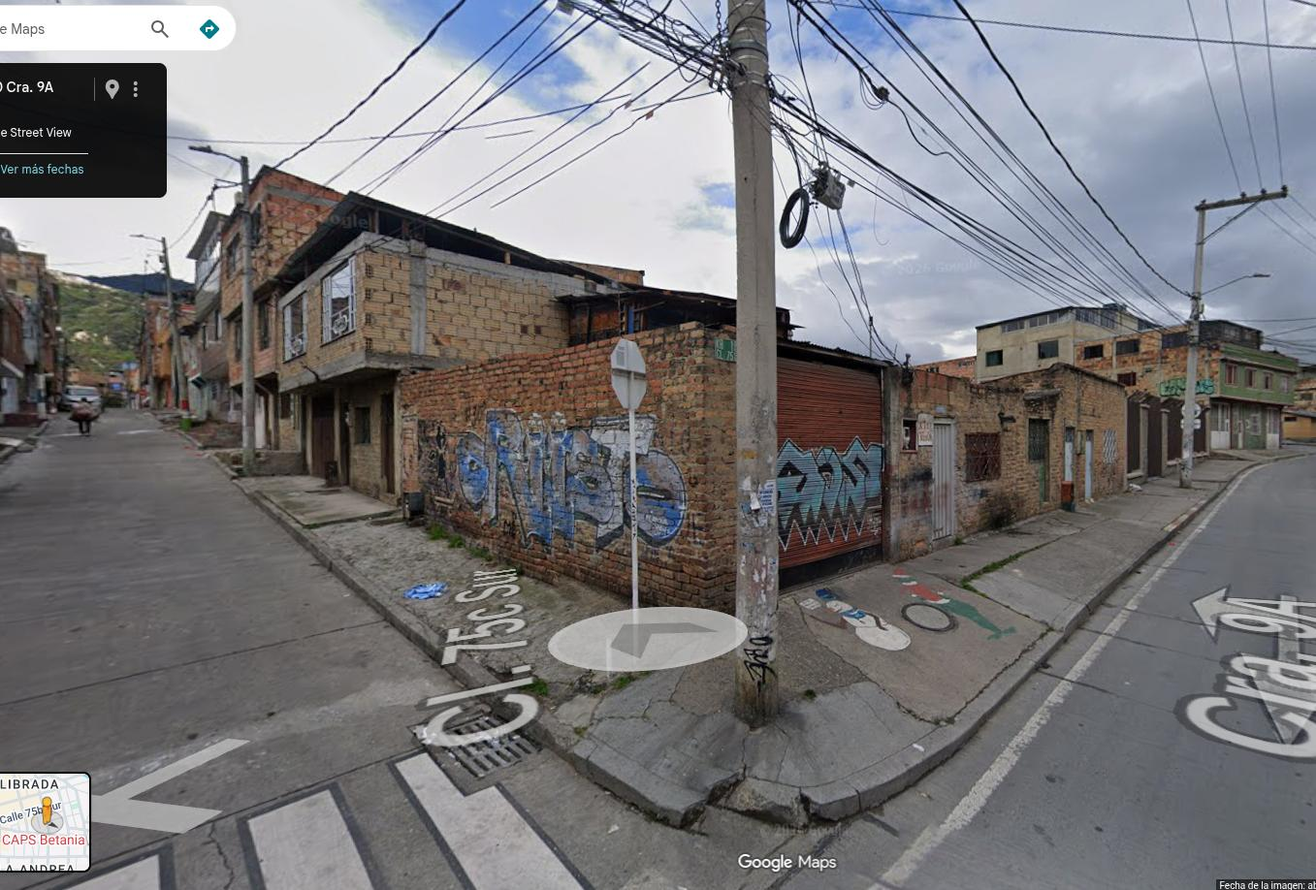casa: (775, 341, 1124, 587), (402, 340, 630, 599), (279, 241, 475, 504), (885, 364, 1124, 558), (220, 167, 342, 448), (636, 323, 735, 610)
poste: (728, 0, 780, 726), (1179, 186, 1286, 488), (189, 145, 256, 476)
